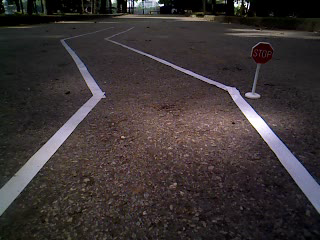Stop: (249, 40, 276, 66)
